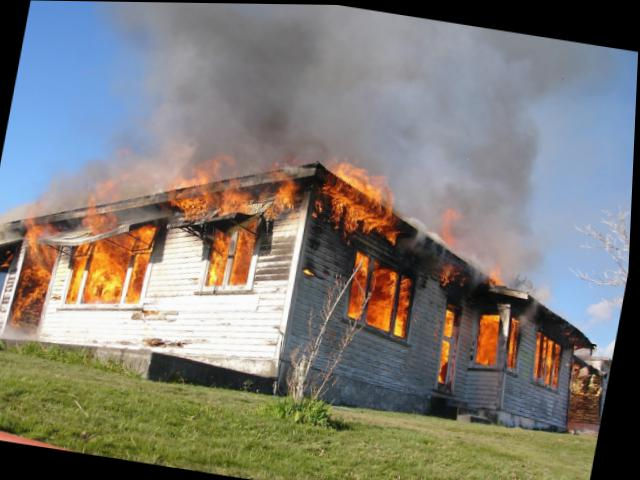fire: (8, 170, 165, 344), (155, 137, 297, 307), (313, 154, 417, 240), (346, 247, 427, 335), (481, 314, 573, 382), (440, 304, 467, 387)
